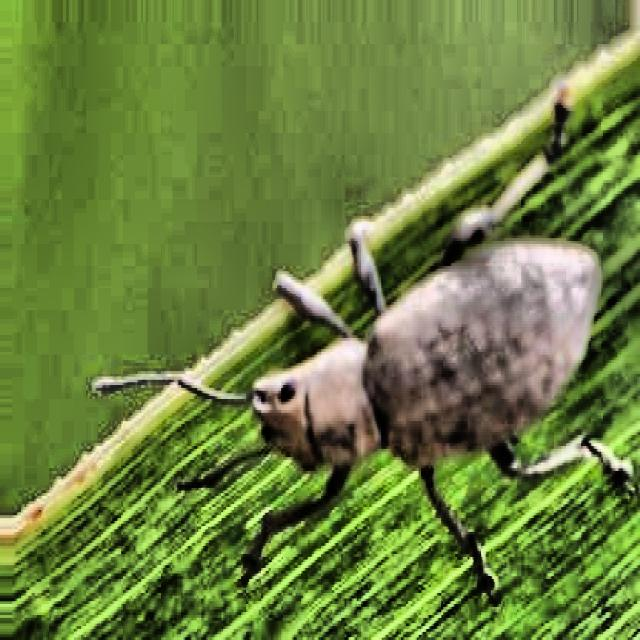Stink bug: (93, 45, 596, 552)
